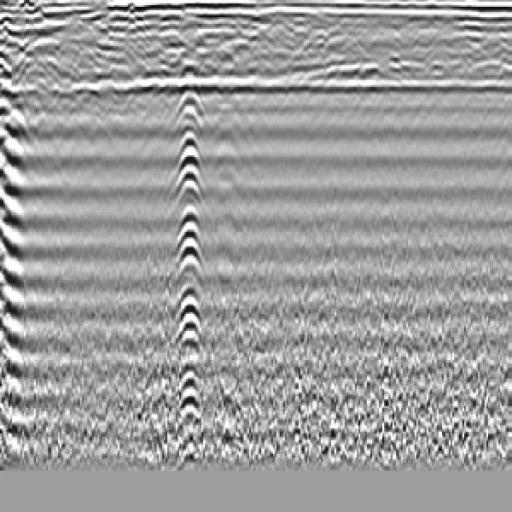non-metallic: (143, 52, 226, 461), (1, 57, 73, 468)
